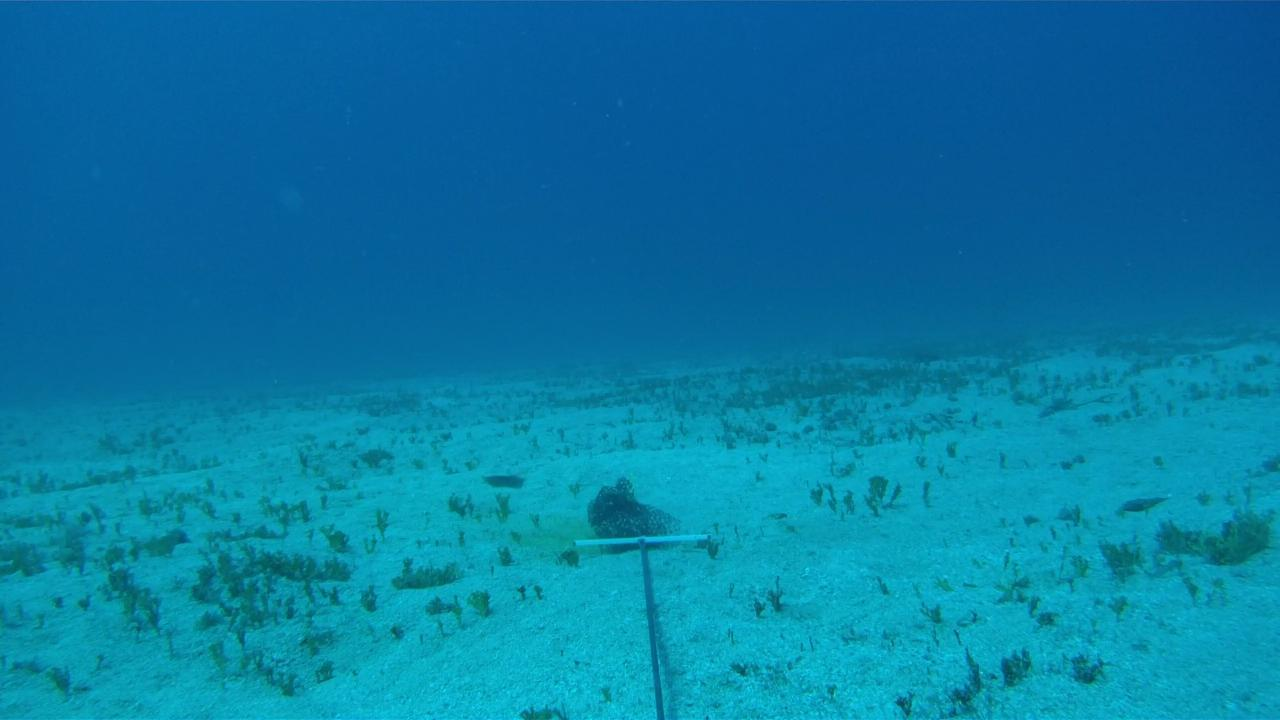bothus: (477, 461, 528, 484)
